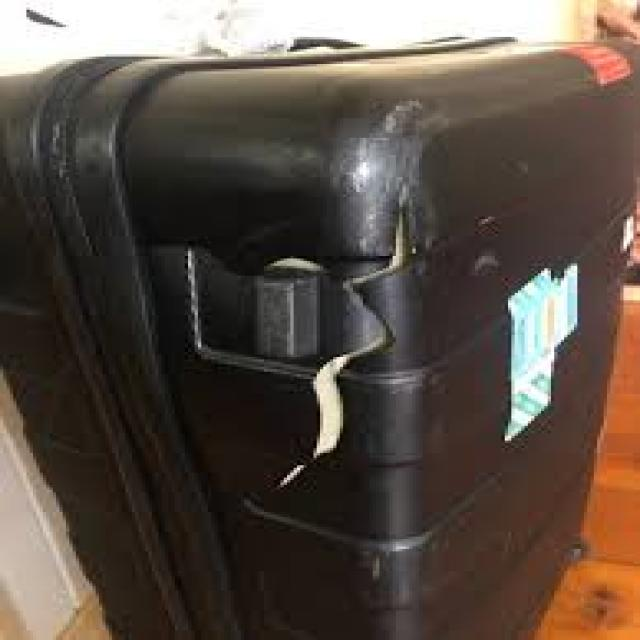Damage-bag: (312, 189, 405, 458), (265, 256, 328, 277), (277, 463, 308, 488)
